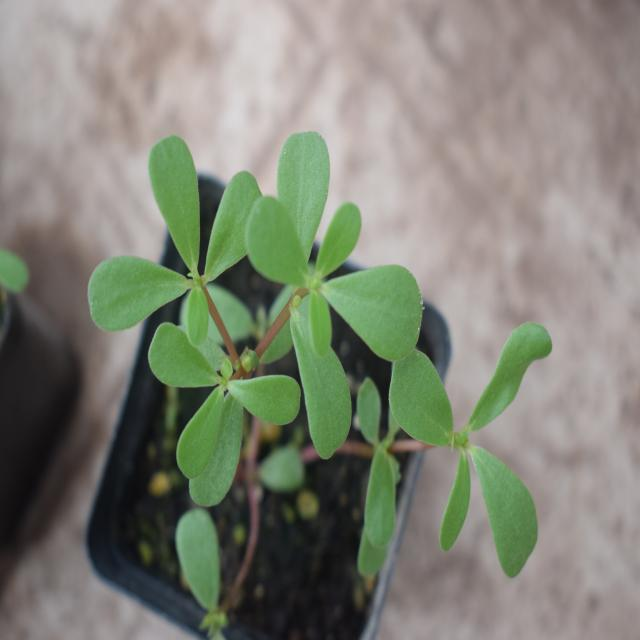purslane: (93, 126, 552, 572)
